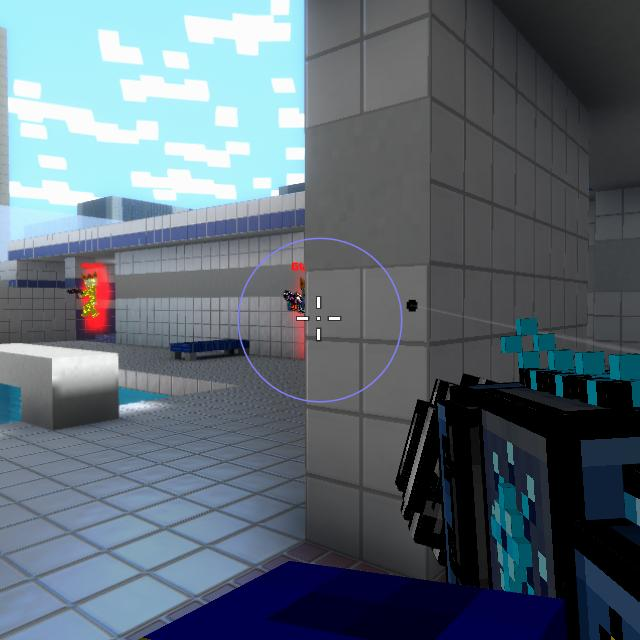Enemy: (78, 274, 99, 318), (287, 277, 305, 314)
